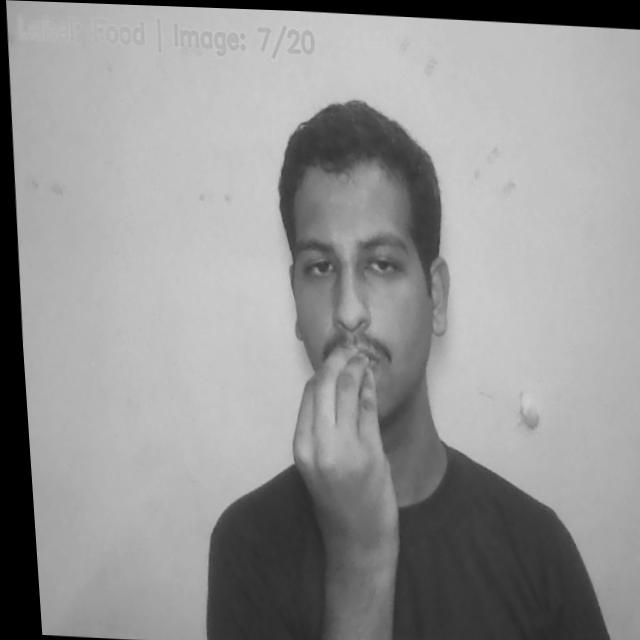Food: (275, 322, 403, 589)
